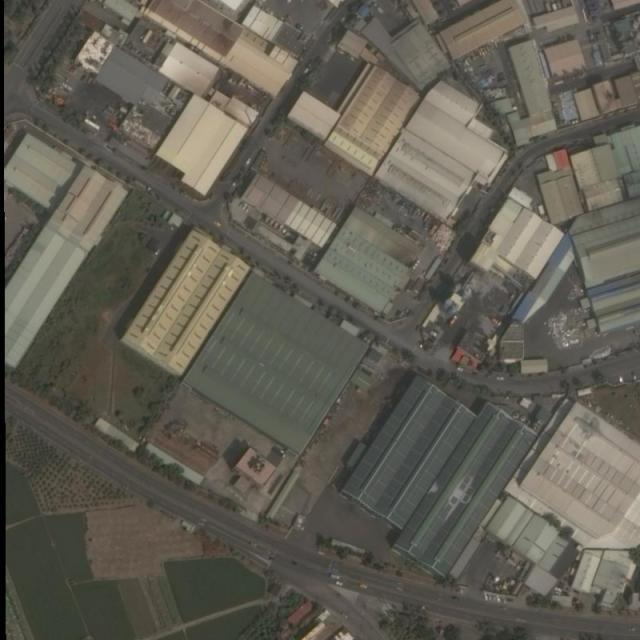vehicle: (286, 1, 295, 5)
